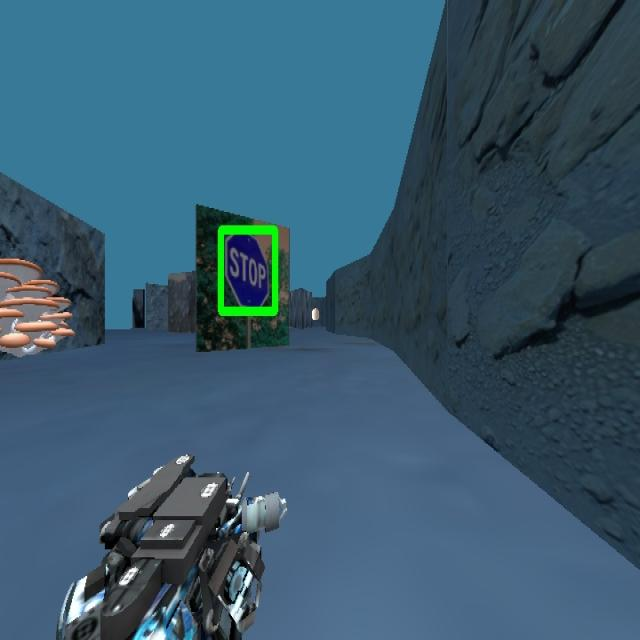Circle: (307, 304, 325, 324)
Mushroom: (0, 256, 74, 355)
Stop_Sign: (216, 223, 279, 317)
